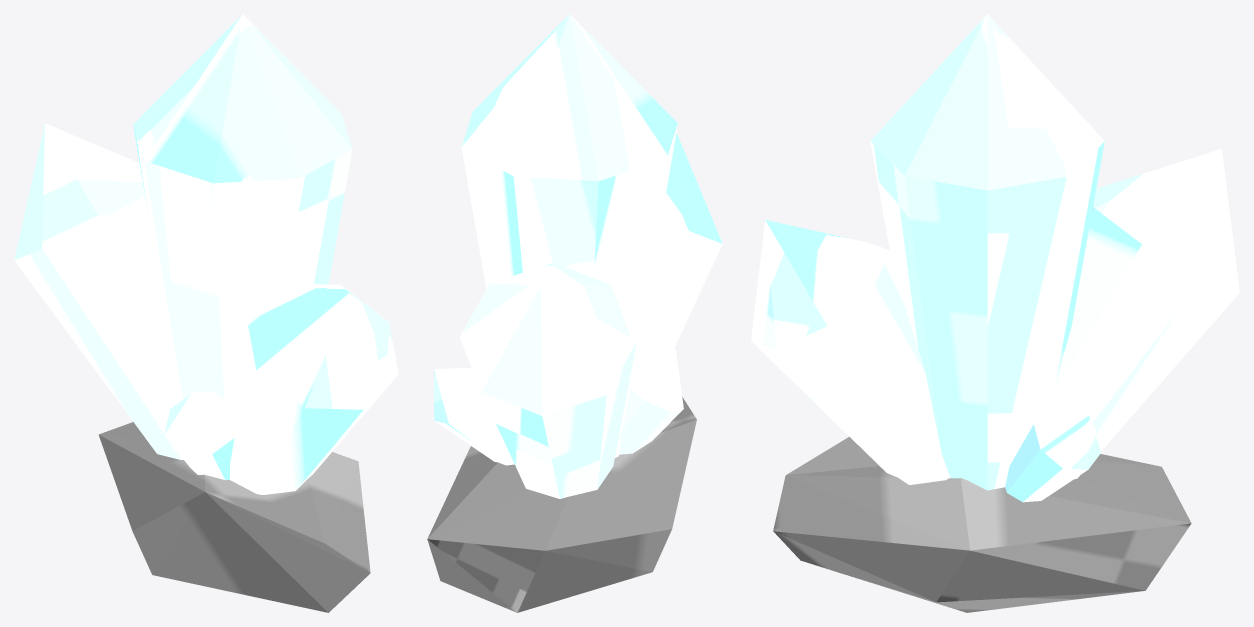
Rendered from BlueCrystal.gltf.
The picture shows the model from 3 angles, left to right: view 1: azimuth 30°, elevation 25°; view 2: azimuth 150°, elevation 25°; view 3: azimuth 270°, elevation 25°; orthographic projection. The views are drawn at different scales.
Parts seen in each view (by area): view 1: BlueCrystal; view 2: BlueCrystal; view 3: BlueCrystal.
Part boxes in pixels (bbox=[...]): BlueCrystal: bbox=[14, 14, 398, 612]; BlueCrystal: bbox=[427, 14, 722, 612]; BlueCrystal: bbox=[751, 14, 1239, 612].
Bounding box in the file's own units: 3.48 × 7.86 × 5.9.
Materials: 1 (1 with a texture image).
